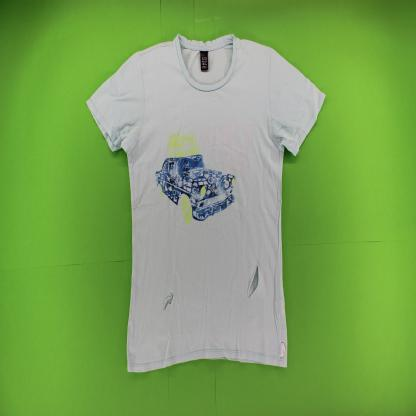hole: (247, 261, 260, 299), (163, 290, 174, 312)
